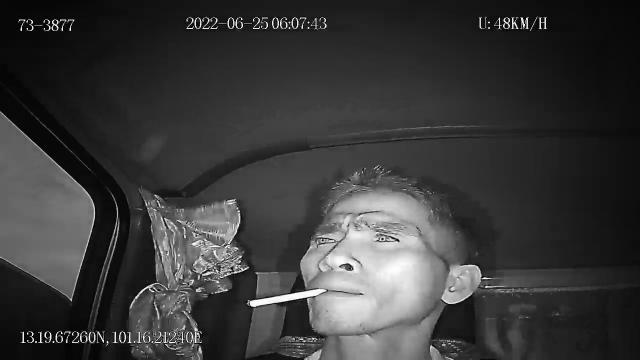SafeDriving: (354, 220, 406, 248), (360, 226, 406, 250), (306, 228, 340, 250)
Smoking: (245, 286, 329, 310)
